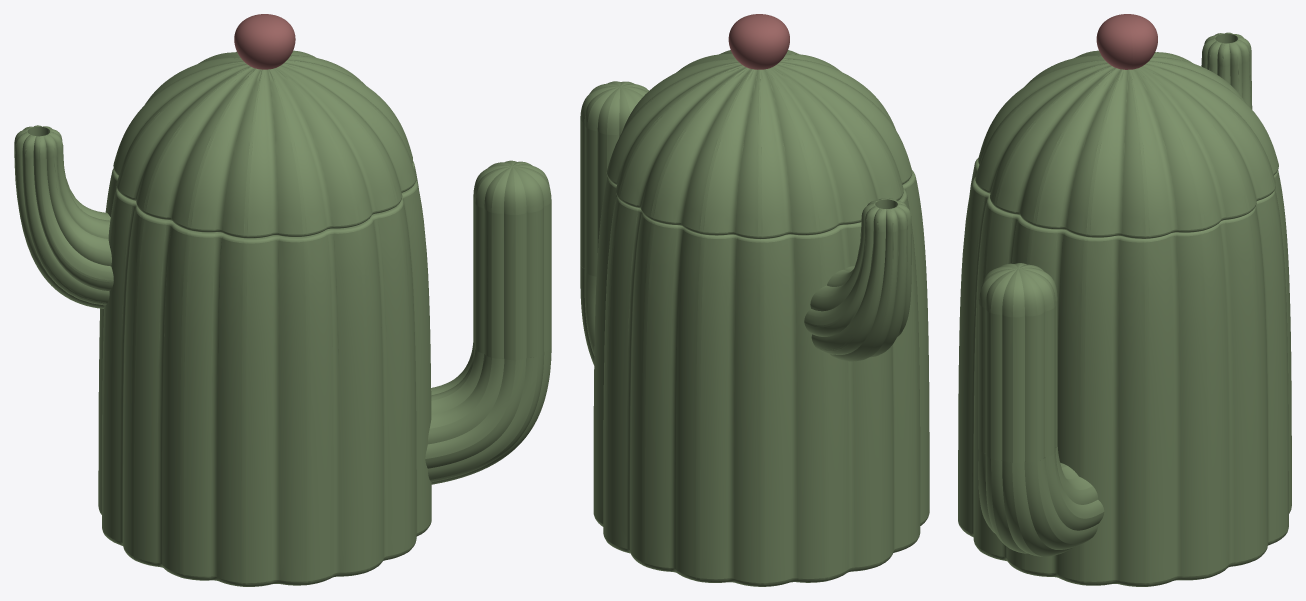
File: kaktus.glb
The picture shows the model from 3 angles, left to right: view 1: azimuth 30°, elevation 25°; view 2: azimuth 150°, elevation 25°; view 3: azimuth 270°, elevation 25°; orthographic projection.
Parts seen in each view (by area): view 1: Brep.002, Brep.001, Brep.003, Brep.004, Brep; view 2: Brep.002, Brep.001, Brep.003, Brep, Brep.004; view 3: Brep.002, Brep.001, Brep.003, Brep.004, Brep.
Part boxes in pixels (left/top/right/bottom): Brep.002: left=14, top=125, right=431, bottom=586; Brep.001: left=113, top=50, right=416, bottom=238; Brep.003: left=473, top=160, right=551, bottom=360; Brep.004: left=425, top=342, right=551, bottom=484; Brep: left=234, top=14, right=295, bottom=69; Brep.002: left=593, top=170, right=929, bottom=586; Brep.001: left=606, top=50, right=912, bottom=239; Brep.003: left=580, top=81, right=648, bottom=276; Brep: left=728, top=14, right=789, bottom=69; Brep.004: left=580, top=264, right=596, bottom=365; Brep.002: left=958, top=32, right=1291, bottom=586; Brep.001: left=975, top=50, right=1278, bottom=238; Brep.003: left=978, top=263, right=1057, bottom=462; Brep.004: left=978, top=445, right=1104, bottom=556; Brep: left=1096, top=14, right=1157, bottom=69.
Bounding box in the file's own units: 0.9932 × 1.11 × 0.6729.
